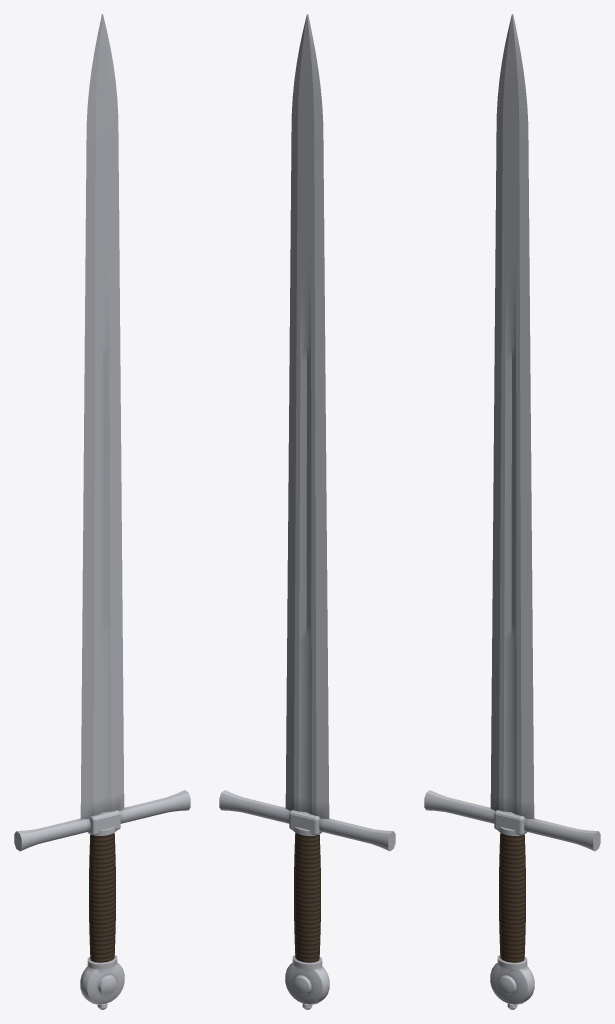
Rendered from longsword.glb.
3 views of the same model, side by side, from view 1: azimuth 30°, elevation 25°; view 2: azimuth 150°, elevation 25°; view 3: azimuth 330°, elevation 25° (orthographic).
Visible parts, largest first — view 1: longsword; view 2: longsword; view 3: longsword.
Part boxes in pixels (bbox=[...]): longsword: bbox=[14, 14, 190, 1009]; longsword: bbox=[219, 14, 395, 1009]; longsword: bbox=[424, 14, 600, 1009].
Size of the model in its own units: 0.21 by 1.18 by 0.031.
